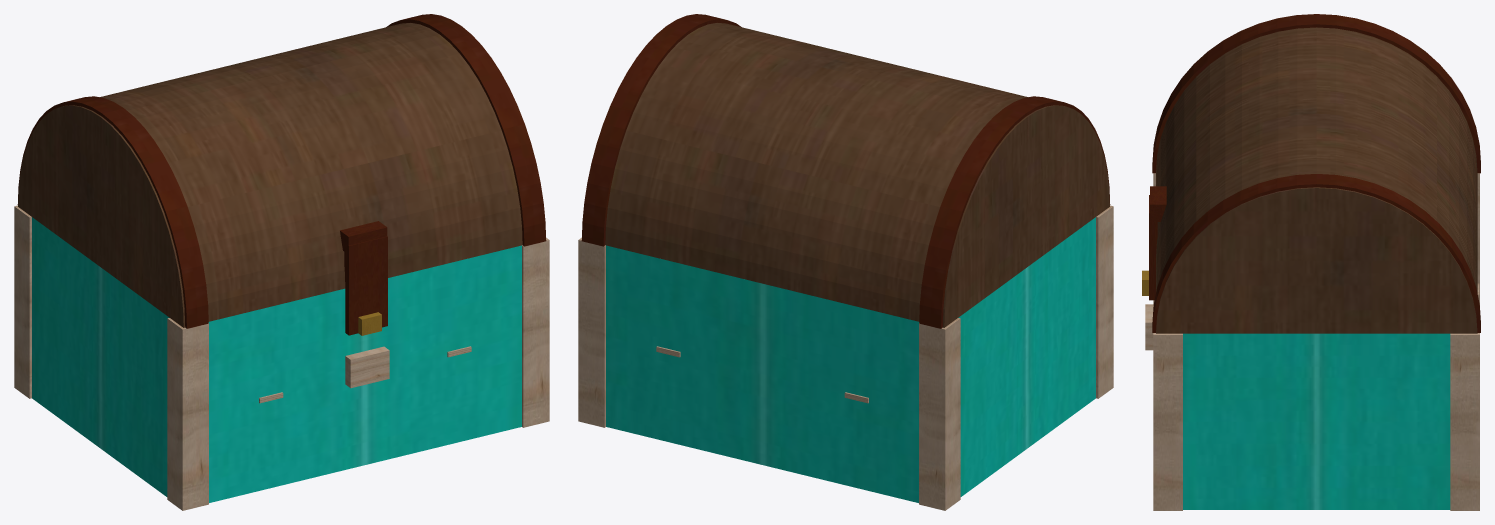
The model's file is Bag_Suitcase_Treasure_chest__0000.glb.
3 views of the same model, side by side, from view 1: azimuth 30°, elevation 25°; view 2: azimuth 150°, elevation 25°; view 3: azimuth 270°, elevation 25° (orthographic). The views are drawn at different scales.
Visible parts, largest first — view 1: chest_lid::lid_dome, chest_body::wall_front, chest_body::wall_left, chest_body::corner_post_0, chest_lid::lid_strap_0, chest_lid::lid_strap_1, chest_body::corner_post_2, lock_hasp::hasp_arm, chest_body::corner_post_1, chest_body::lock_keeper, chest_lid::hasp_mount; view 2: chest_lid::lid_dome, chest_body::wall_back, chest_body::wall_left, chest_body::corner_post_1, chest_lid::lid_strap_0, chest_lid::lid_strap_1, chest_body::corner_post_3, chest_body::corner_post_0; view 3: chest_lid::lid_dome, chest_body::wall_right, chest_body::corner_post_2, chest_body::corner_post_3, chest_lid::lid_strap_0, chest_lid::lid_strap_1, lock_hasp::hasp_arm, chest_lid::hasp_mount, chest_body::lock_keeper.
Part boxes in pixels (x1,y1,x2,y2): chest_lid::lid_dome: (18,23,522,327); chest_body::wall_front: (208,245,521,502); chest_body::wall_left: (32,217,169,496); chest_body::corner_post_0: (167,318,208,510); chest_lid::lid_strap_0: (17,96,208,328); chest_lid::lid_strap_1: (386,14,546,246); chest_body::corner_post_2: (522,237,549,427); lock_hasp::hasp_arm: (344,236,387,335); chest_body::corner_post_1: (14,205,31,398); chest_body::lock_keeper: (345,346,389,388); chest_lid::hasp_mount: (340,221,387,251); chest_lid::lid_dome: (605,23,1109,327); chest_body::wall_back: (606,245,919,502); chest_body::wall_left: (958,217,1095,496); chest_body::corner_post_1: (919,318,960,510); chest_lid::lid_strap_0: (919,96,1110,328); chest_lid::lid_strap_1: (581,14,741,246); chest_body::corner_post_3: (578,237,605,427); chest_body::corner_post_0: (1096,205,1113,398); chest_lid::lid_dome: (1156,27,1477,333); chest_body::wall_right: (1183,333,1450,509); chest_body::corner_post_2: (1153,333,1182,510); chest_body::corner_post_3: (1450,333,1479,510); chest_lid::lid_strap_0: (1152,14,1480,173); chest_lid::lid_strap_1: (1152,174,1480,332); lock_hasp::hasp_arm: (1149,195,1157,300); chest_lid::hasp_mount: (1150,186,1166,221); chest_body::lock_keeper: (1145,304,1153,350).
Size of the model in its own units: 0.472 by 0.4115 by 0.389.
6 materials, 6 textured.
